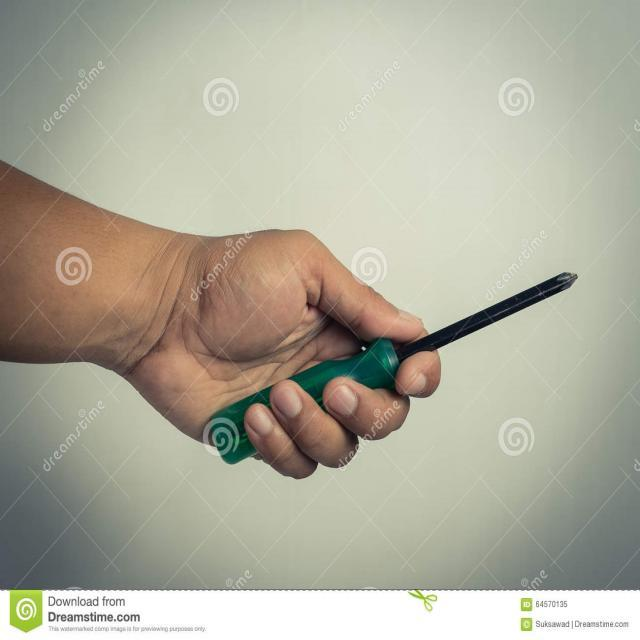screwdriver: (207, 266, 582, 472)
